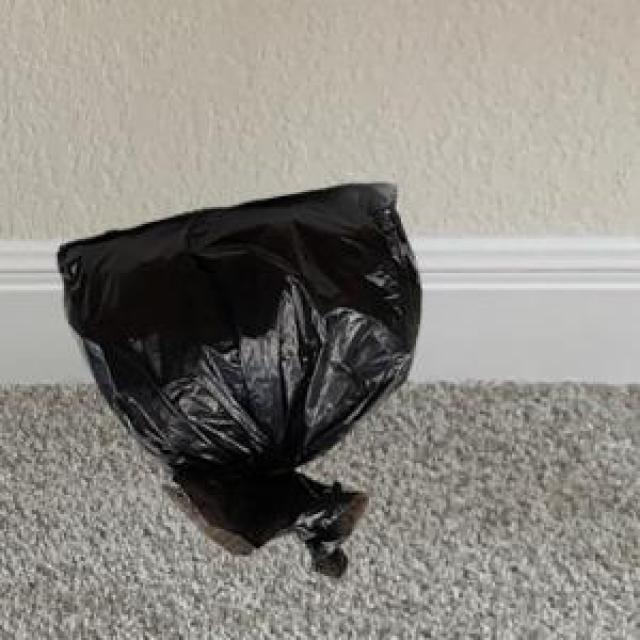waste: (59, 184, 421, 577)
